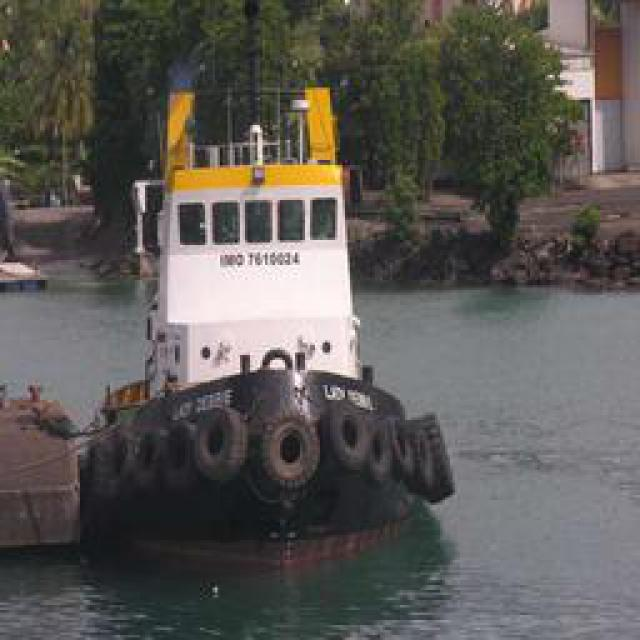Ship: (90, 38, 443, 563)
